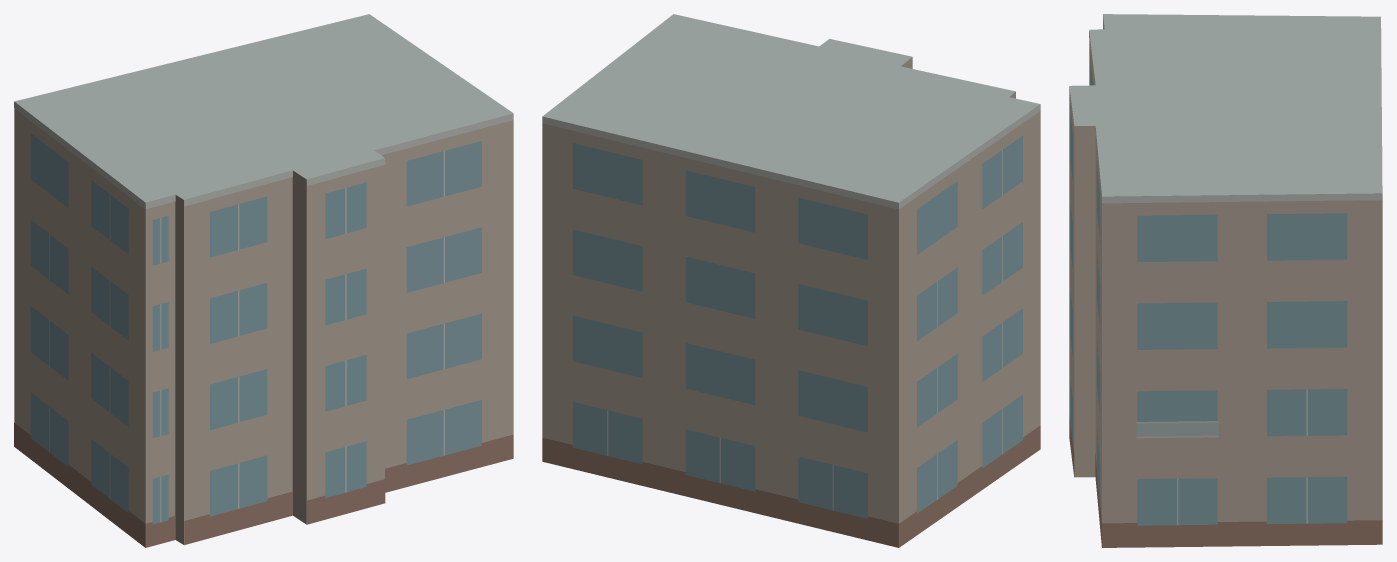
Rendered from survey-upis-32618698.glb.
The picture shows the model from 3 angles, left to right: view 1: azimuth 30°, elevation 25°; view 2: azimuth 150°, elevation 25°; view 3: azimuth 270°, elevation 25°; orthographic projection.
Parts seen in each view (by area): view 1: survey-upis-32618698.tmp; view 2: survey-upis-32618698.tmp; view 3: survey-upis-32618698.tmp.
Boxes of the visible parts, box(x1,y1,x2,y2) form: survey-upis-32618698.tmp: box(14, 14, 513, 547); survey-upis-32618698.tmp: box(542, 14, 1040, 547); survey-upis-32618698.tmp: box(1069, 14, 1382, 547).
Bounding box in the file's own units: 14.06 × 12.6 × 10.19.
